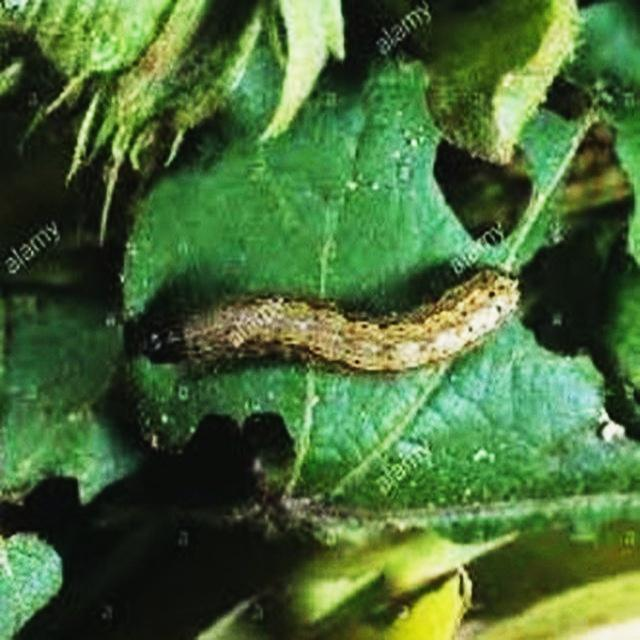worm: (150, 260, 521, 388)
